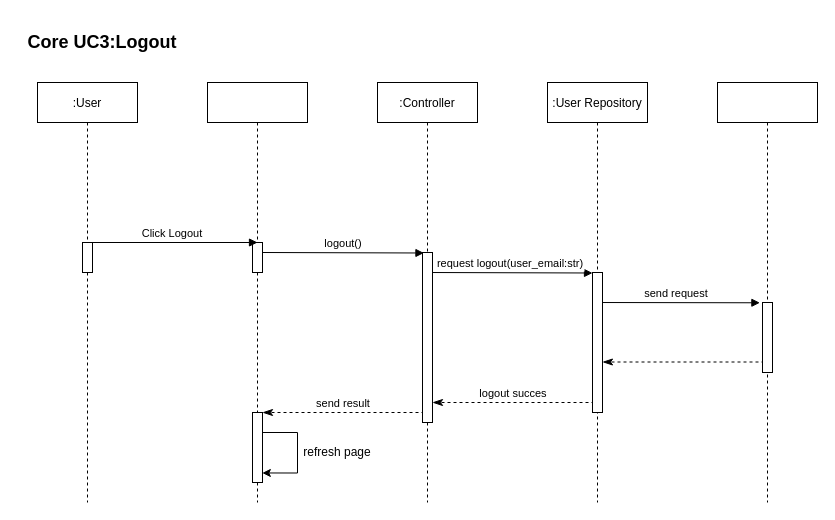
Some shapes in this 835 by 520 pixel diagram are drawn without their labels. The shapes that lost their labels are listed below. From the top down, each one's centre as x and y in pixels, then its label:
At point (257, 292): ":User interface".
At point (767, 292): ":Database".
